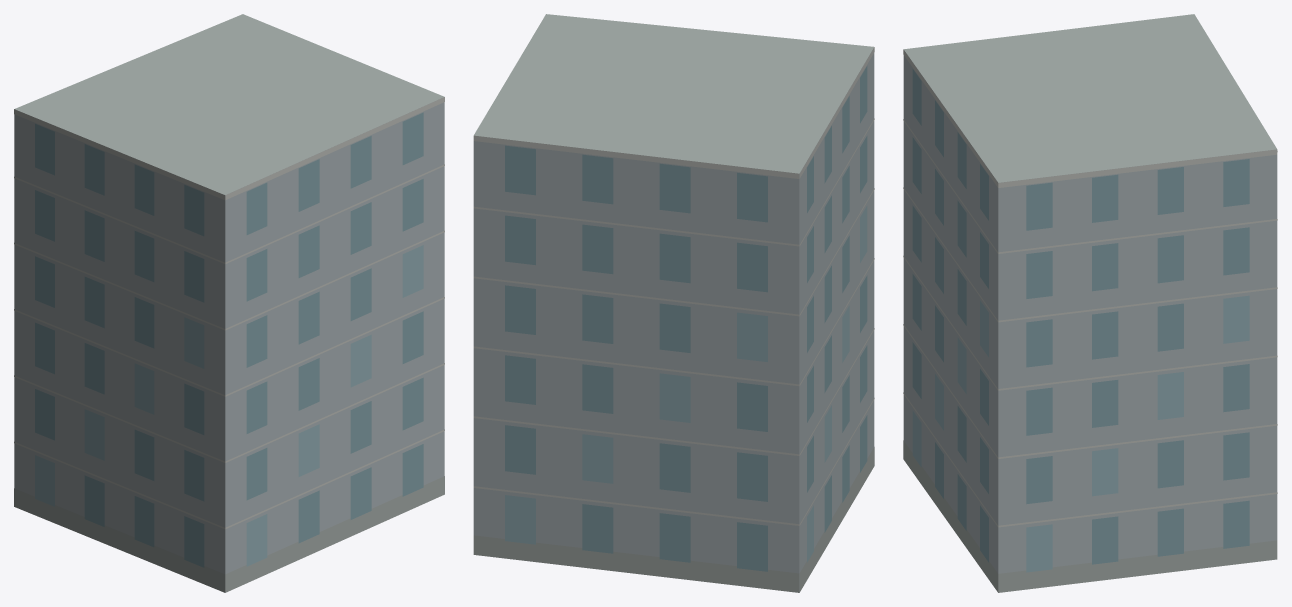
File: survey-upis-32784722.glb
The picture shows the model from 3 angles, left to right: view 1: azimuth 30°, elevation 25°; view 2: azimuth 150°, elevation 25°; view 3: azimuth 270°, elevation 25°; orthographic projection. The views are drawn at different scales.
Visible parts, largest first — view 1: survey-upis-32784722.tmp; view 2: survey-upis-32784722.tmp; view 3: survey-upis-32784722.tmp.
Boxes of the visible parts, x1,y1,x2,y2 form: survey-upis-32784722.tmp: (14,14,444,592); survey-upis-32784722.tmp: (473,14,874,592); survey-upis-32784722.tmp: (903,14,1277,592).
Size of the model in its own units: 16.6 by 18.78 by 15.54.
